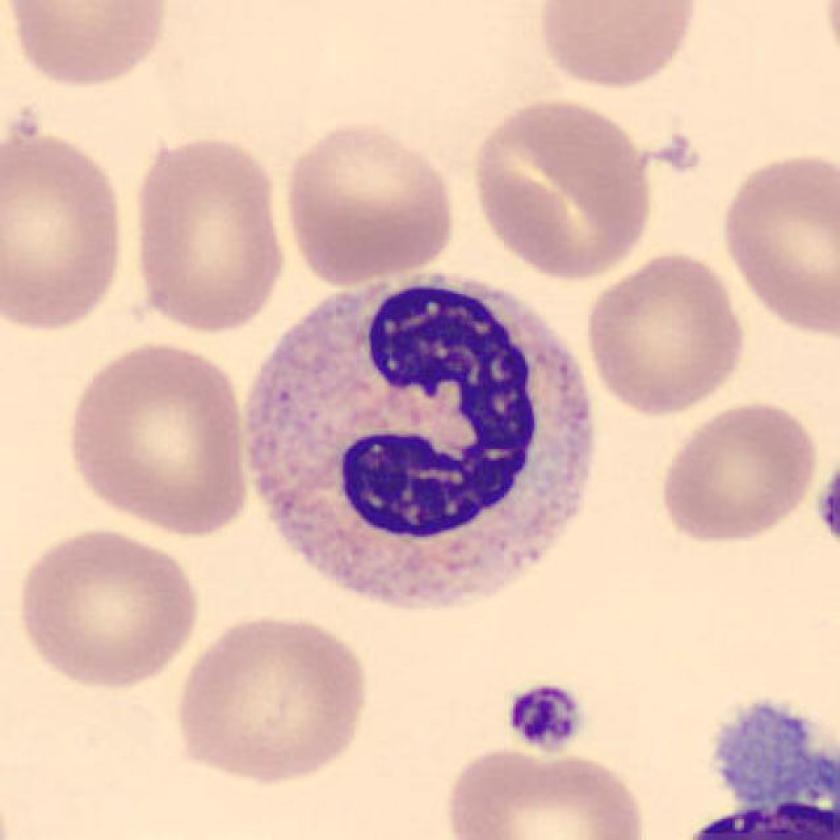neutrophil: (240, 279, 593, 602)
